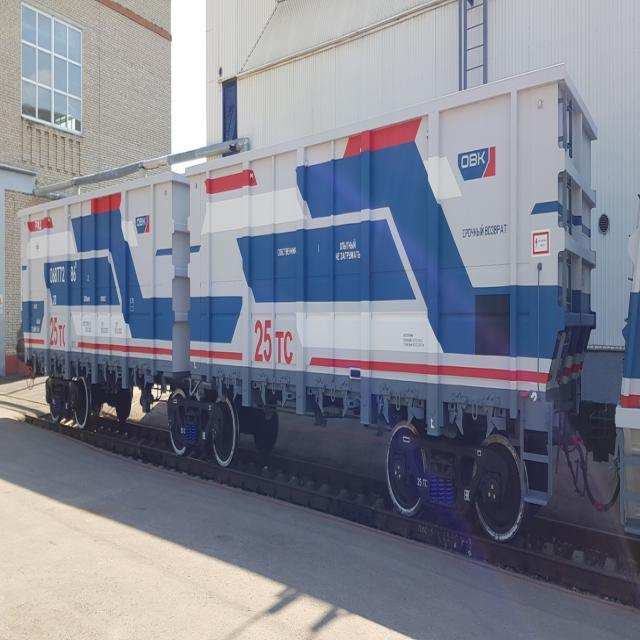wagon: (48, 264, 78, 284)
